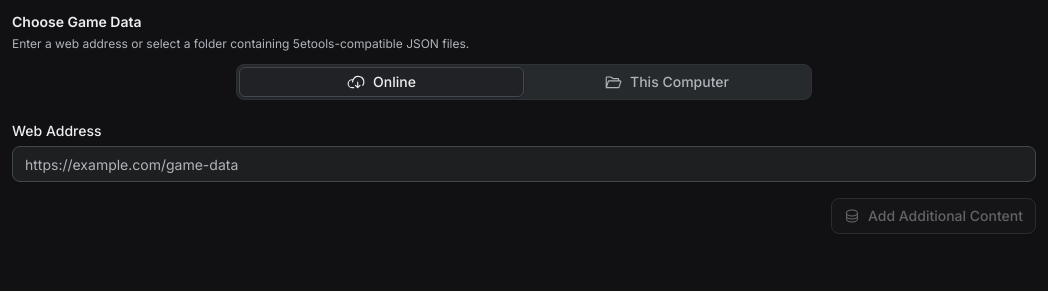
Scenario: data source switching › clears an incompatible folder result while checking another folder
The width and height of the screenshot is (1048, 291).
Later steps or results of the test are not shown.
Click the tab "This Computer": (666, 82) x1=524 y1=67 x2=809 y2=97
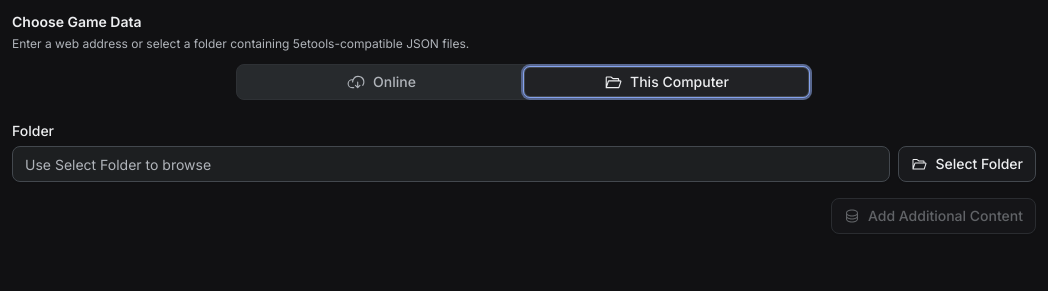
Click the button "Select Folder": (967, 164) x1=898 y1=146 x2=1036 y2=182
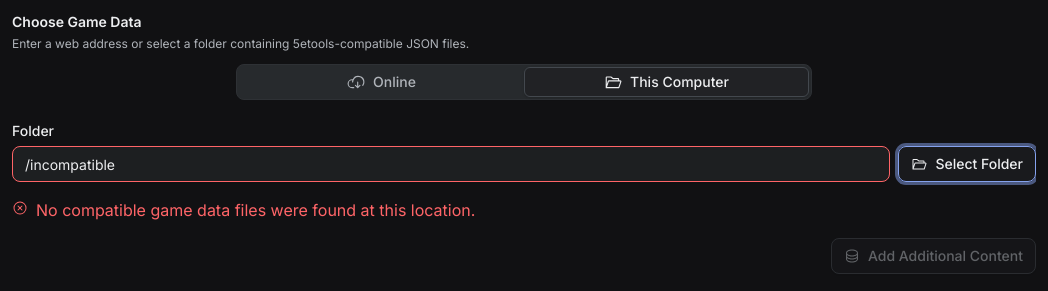
Expected: the 4th icon is shown, x1=12 y1=200 x2=28 y2=216
Click the button "Select Folder": (967, 164) x1=898 y1=146 x2=1036 y2=182
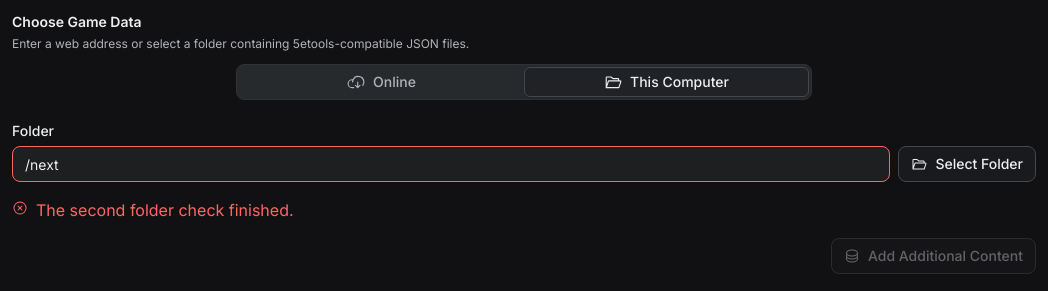
Expected: the text "No compatible game data files were found at this location." is gone
Expected: the text "The second folder check finished." is shown, x1=12 y1=200 x2=294 y2=220
